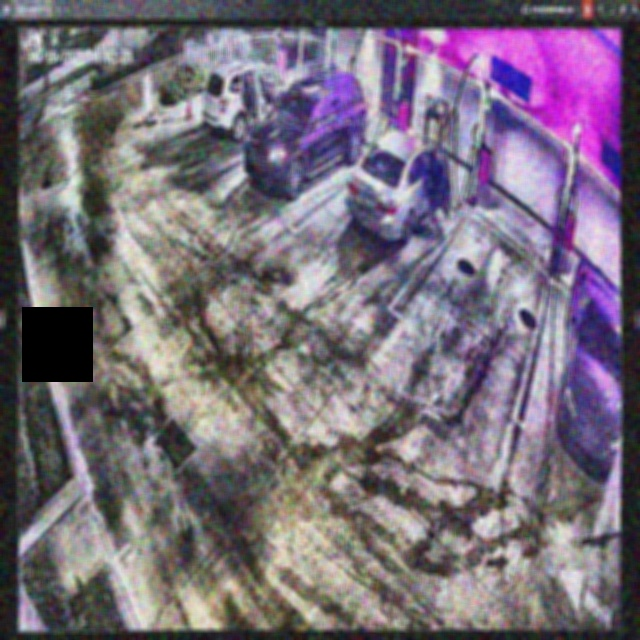Car: (246, 68, 366, 201), (346, 129, 452, 246)
